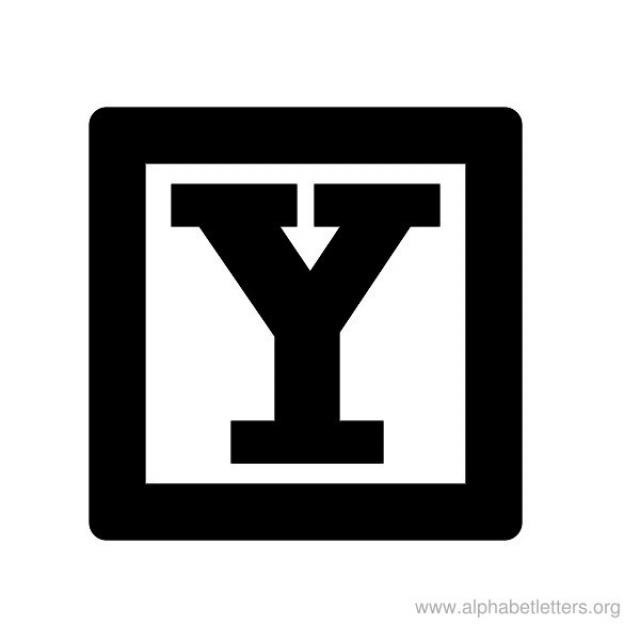Y: (157, 166, 448, 478)
